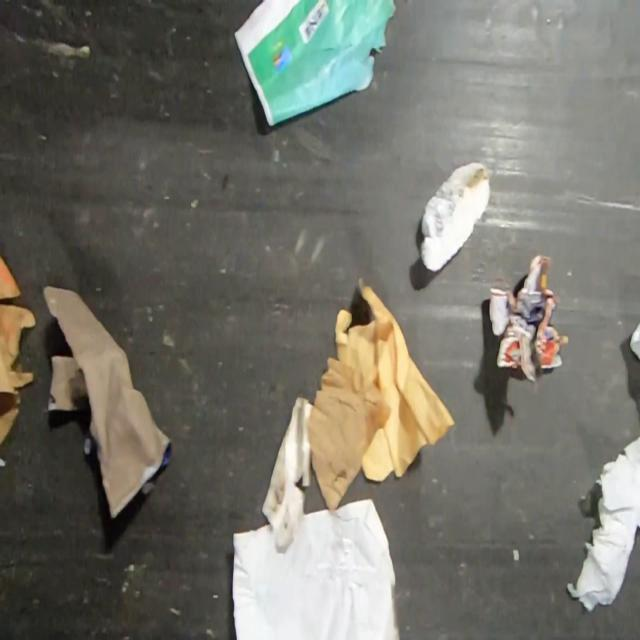cardboard: (41, 282, 175, 522)
